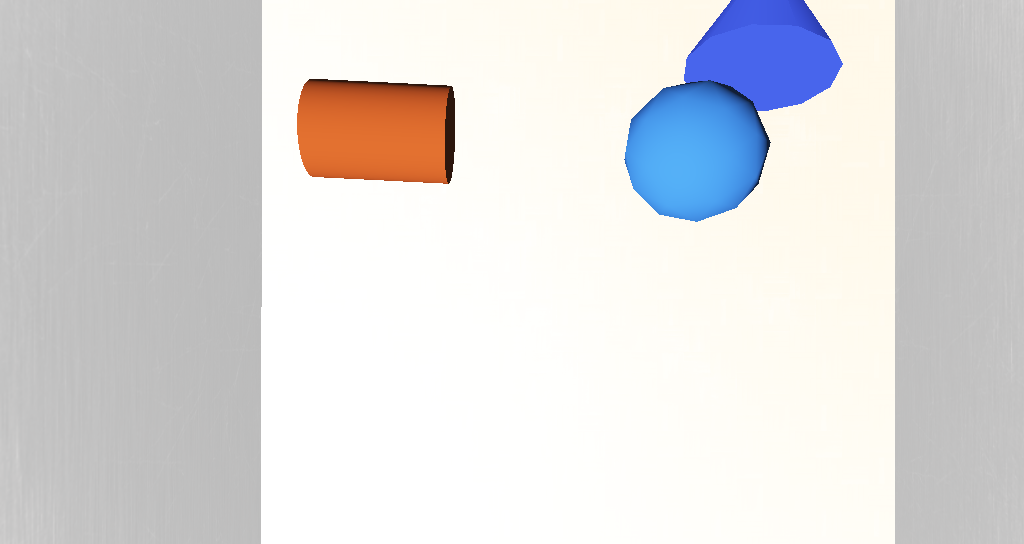cone: (377, 208, 445, 241)
cylinder: (546, 150, 627, 222)
sphere: (519, 205, 586, 253)
